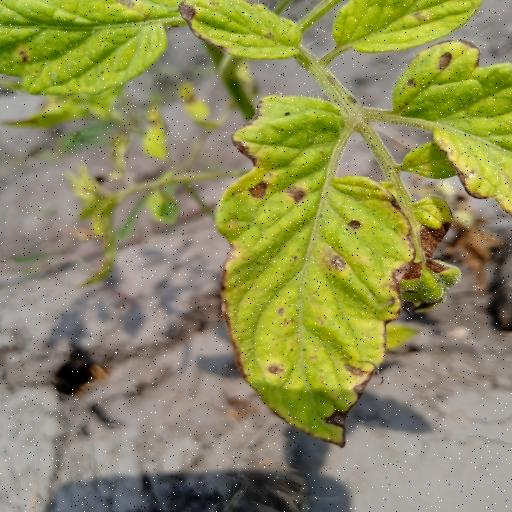Tomato_Brown_Spots: (204, 92, 436, 452)
